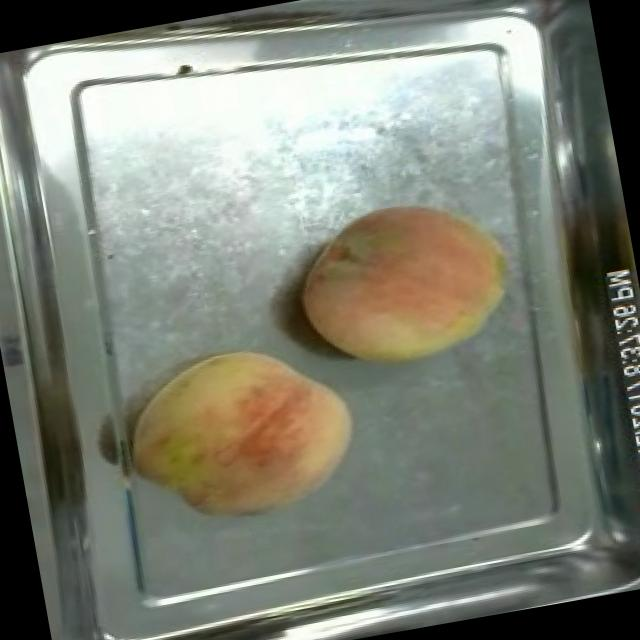Fruit: (113, 323, 370, 540), (282, 178, 532, 386)
